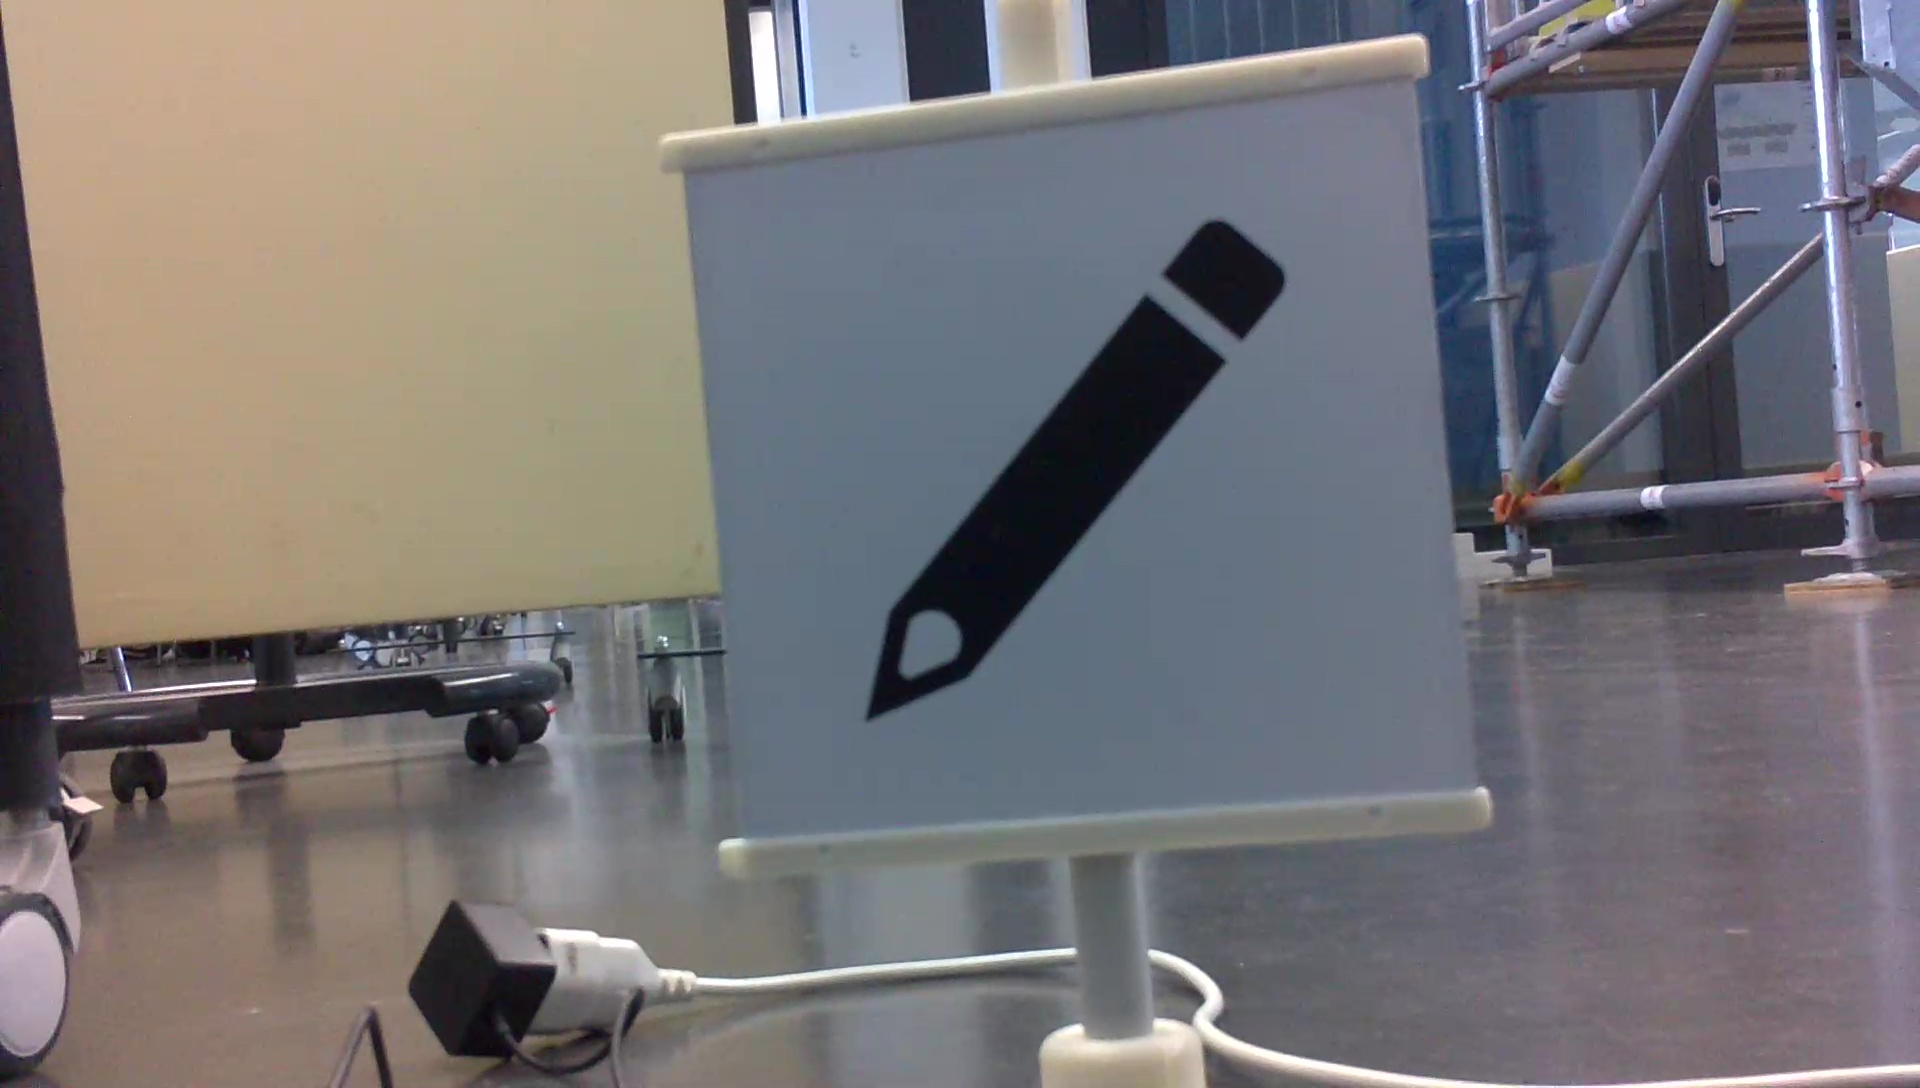pencil: (840, 203, 1304, 732)
